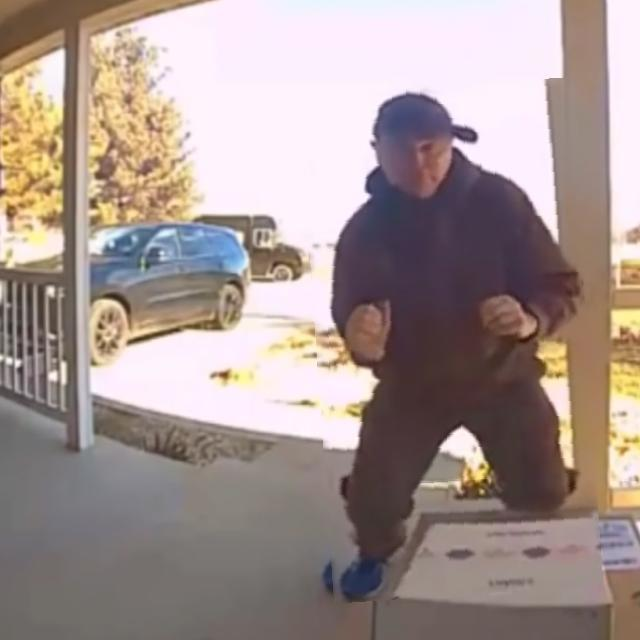Jacket_Wearer: (324, 179, 599, 384)
Person: (305, 81, 598, 554)
